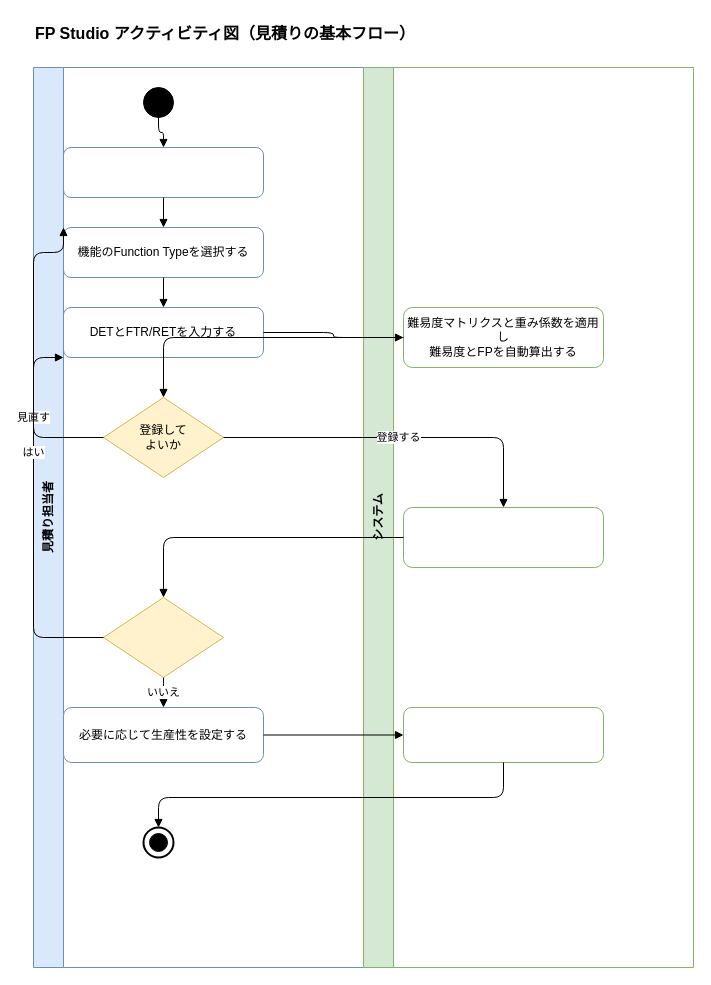
The diagram is 711 pixels wide and 985 high, and some of its shapes have lost their labels. The centre of each missing label's shape, as x and y in pixels:
プロジェクトを新規作成する: the point at 163,172
合計FPと生産性から総工数を概算する: the point at 503,734
機能を 追加するか: the point at 163,637
機能を登録し プロジェクトの合計FPを再集計する: the point at 503,537
